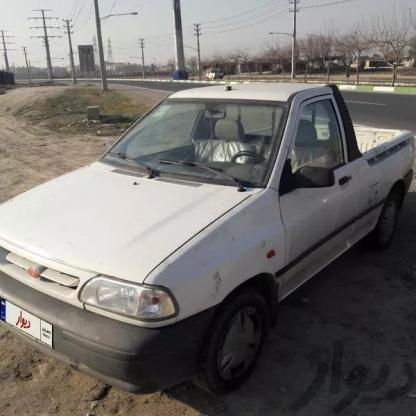Car: (0, 71, 416, 399)
